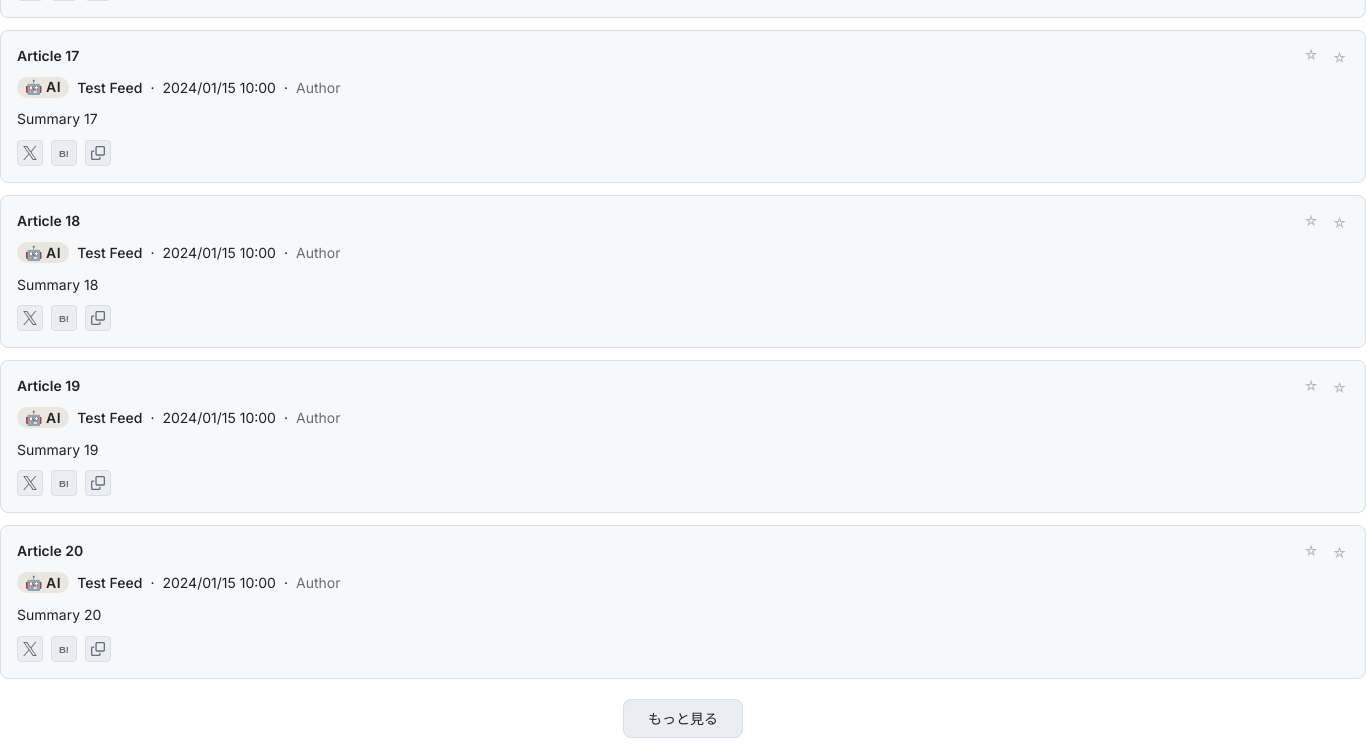
it: FeedDetail › 「もっと見る」ボタンクリックで次ページが追加表示される
The image size is (1366, 746).
(page scrolled)
Expected: the link "Article 20" is shown, [17,542,83,559]
// クリックで次ページが追加される
Click the button "もっと見る" at (683, 718), box [623,698,743,738]
(page scrolled)
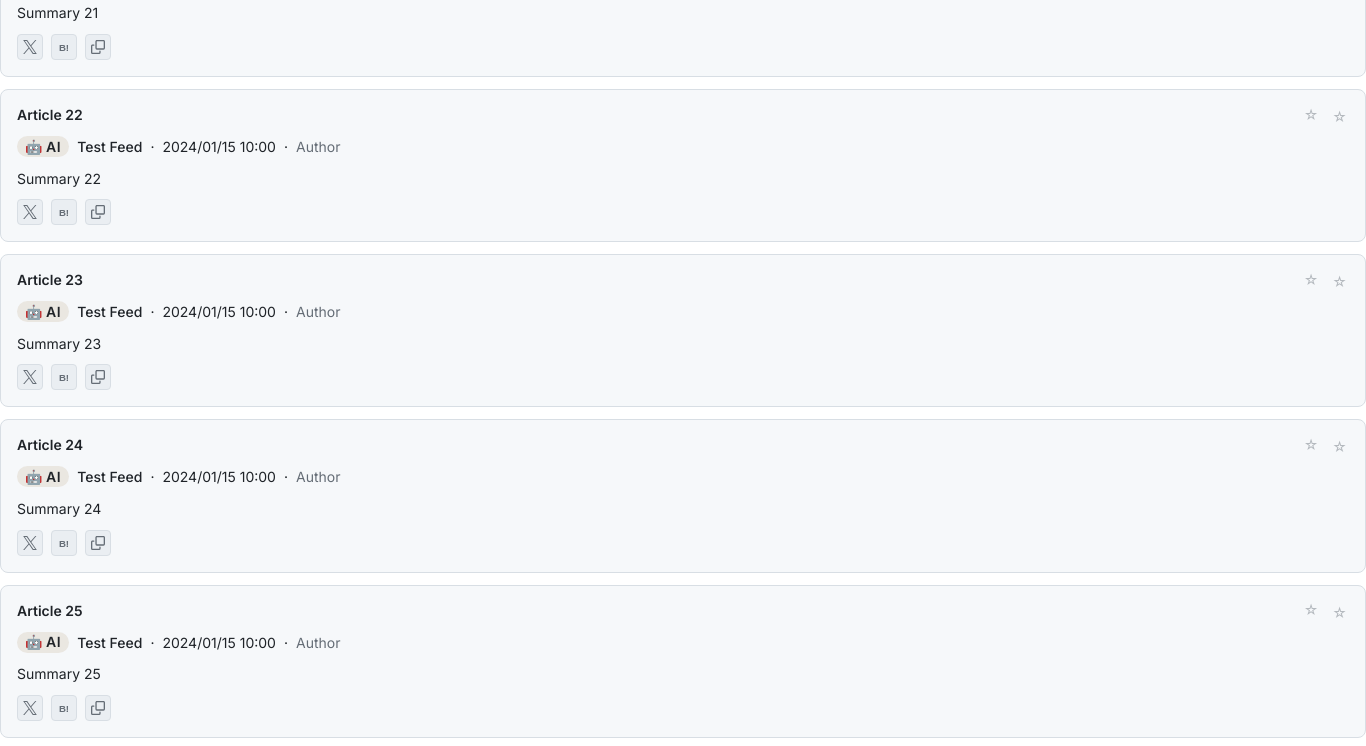
Expected: the link "Article 25" is shown, [17,602,82,618]
Expected: the button "もっと見る" is gone
